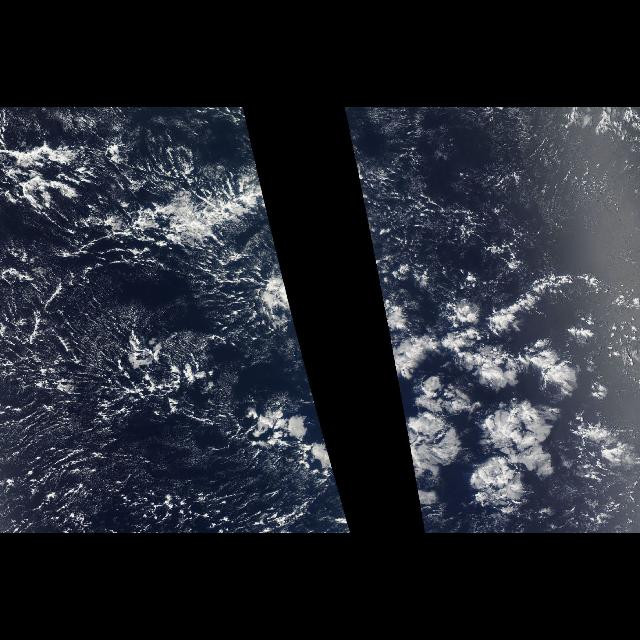Flower: (373, 255, 631, 522), (265, 255, 345, 510)
Gravel: (12, 244, 244, 528)
Sugar: (382, 112, 564, 178)
